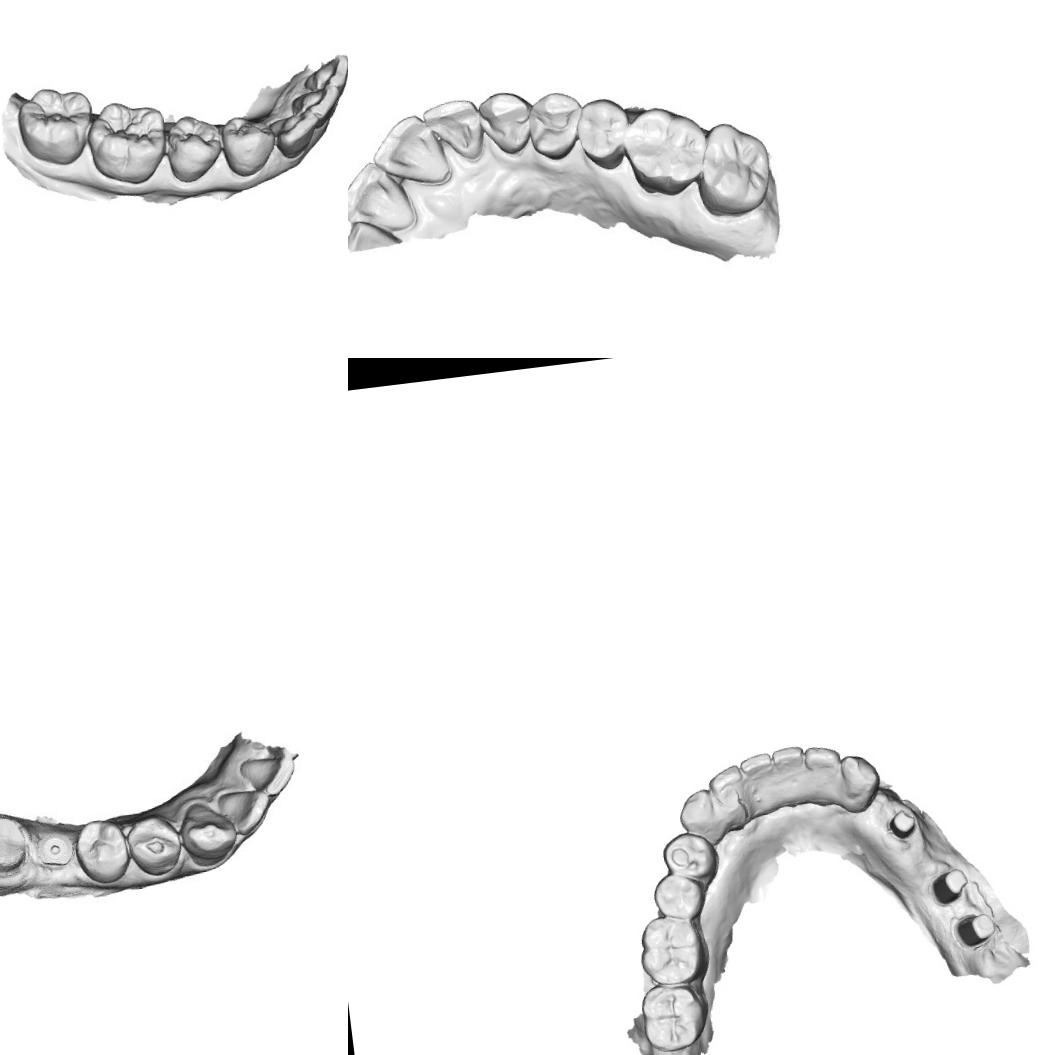abutment: (950, 910, 999, 952), (927, 866, 971, 908), (886, 807, 920, 843)
canine: (176, 796, 241, 866), (676, 786, 728, 849), (484, 88, 530, 152), (836, 752, 883, 814)
crown: (0, 803, 35, 877)
implant: (35, 828, 78, 874)
incisor: (373, 114, 449, 192), (348, 156, 420, 238), (425, 94, 485, 166), (705, 762, 750, 835), (237, 749, 297, 800), (803, 743, 846, 809), (738, 752, 780, 819), (270, 107, 322, 161), (222, 784, 272, 838), (770, 744, 810, 809), (290, 82, 346, 124), (296, 49, 348, 92)
molar: (688, 114, 774, 219), (82, 94, 174, 190), (618, 102, 707, 201), (11, 81, 101, 172), (635, 911, 712, 990), (638, 978, 713, 1054)
premolar: (157, 109, 228, 187), (70, 815, 136, 888), (216, 108, 282, 180), (520, 89, 583, 163), (125, 812, 190, 882), (570, 98, 628, 170), (660, 828, 722, 888), (651, 869, 708, 923)
